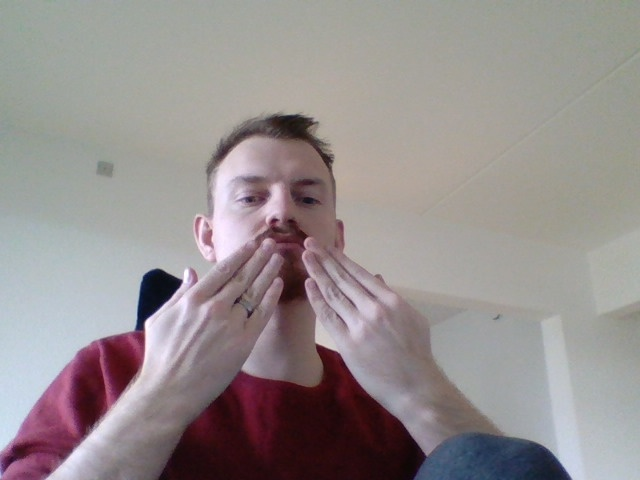ThankYou: (140, 235, 441, 400)
